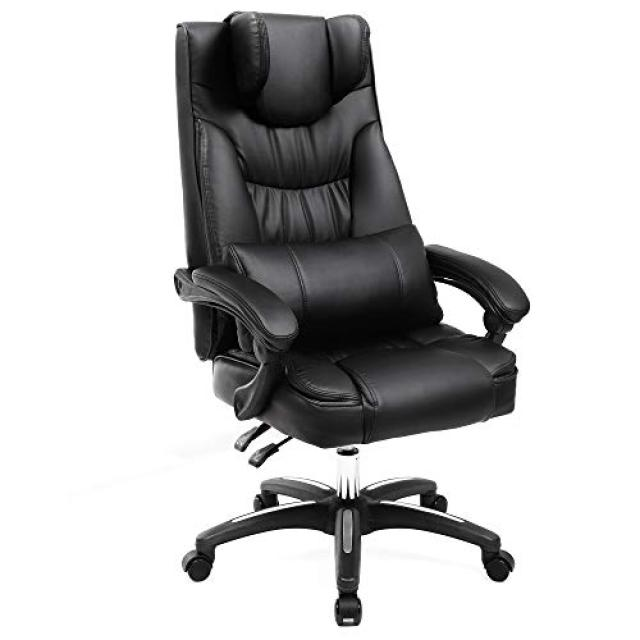chair: (171, 9, 530, 627)
